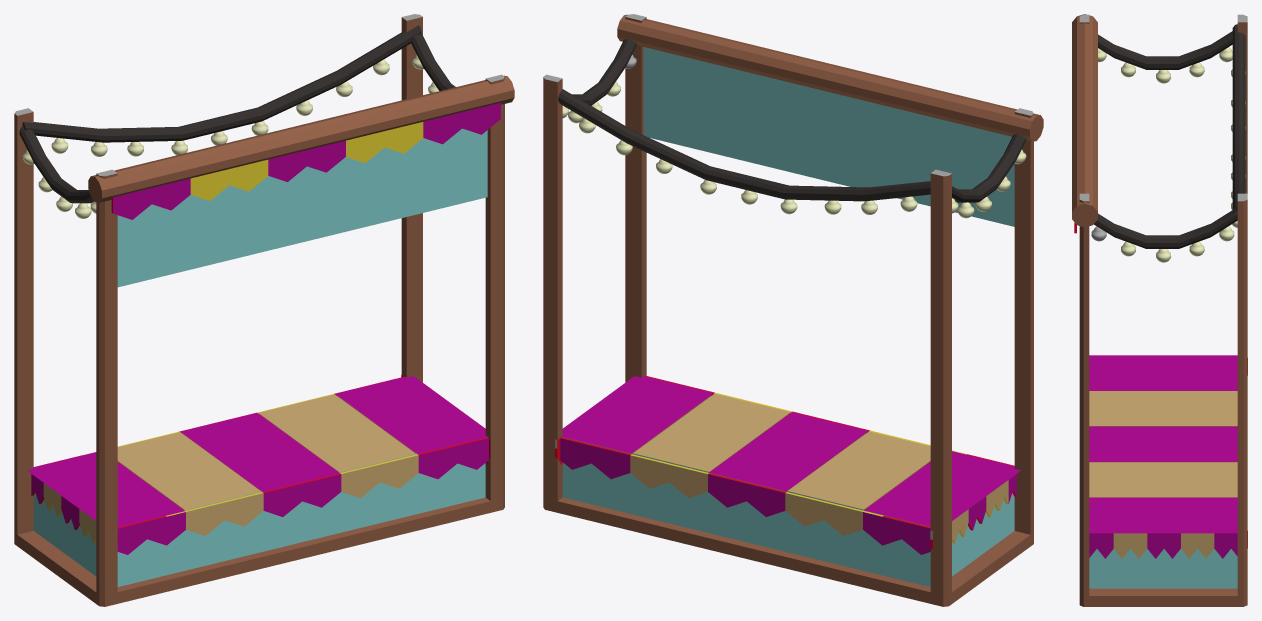
The model's file is booth2.fbx.
3 renders of one model, left to right at view 1: azimuth 30°, elevation 25°; view 2: azimuth 150°, elevation 25°; view 3: azimuth 270°, elevation 25°, orthographic. The views are drawn at different scales.
Parts seen in each view (by area): view 1: Booth:pPlane16; view 2: Booth:pPlane16; view 3: Booth:pPlane16.
Boxes of the visible parts, x1,y1,x2,y2 form: Booth:pPlane16: (14,14,514,606); Booth:pPlane16: (543,14,1043,606); Booth:pPlane16: (1072,14,1247,606).
Size of the model in its own units: 24.34 by 24.26 by 9.53.
